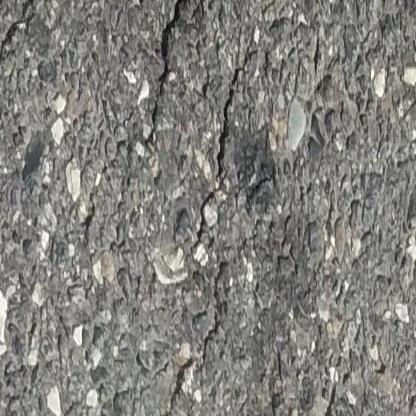Cracks: (190, 44, 262, 252), (151, 0, 197, 120), (0, 0, 45, 100), (201, 259, 230, 362), (152, 370, 188, 416)
